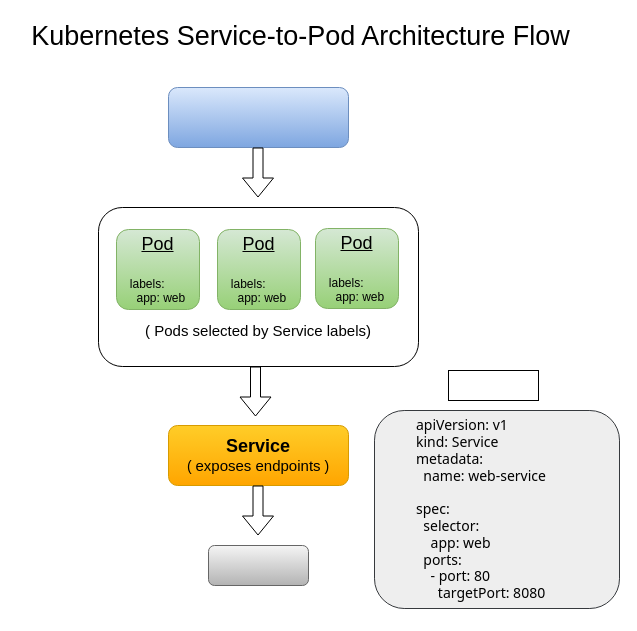
The diagram is 637 pixels wide and 631 high, and some of its shapes have lost their labels. The centre of each missing label's shape, as x and y in pixels:
Clients: (258,565)
Deployment ( manages replicas ): (258,117)
YAML Box: (493,385)
